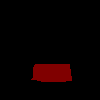mutande: (31, 63, 72, 82)
